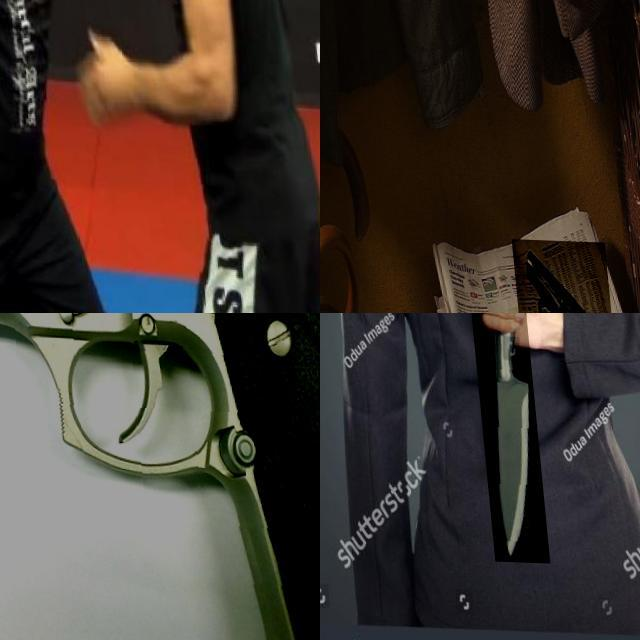-: (459, 313, 539, 560), (0, 153, 51, 236)
gun-knife-thesis - v11 Yolov5 augmented: (0, 313, 320, 640), (506, 236, 612, 313)
